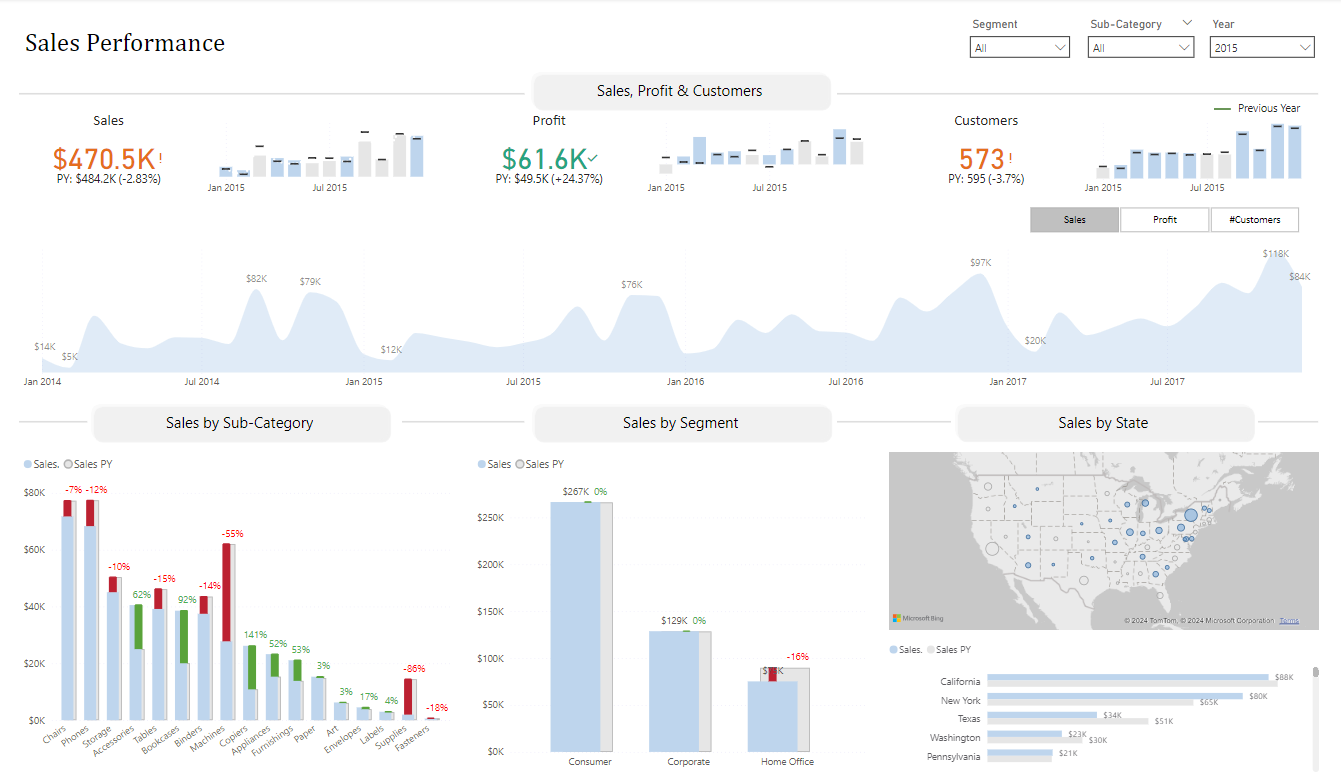

Layout of this report page (visuals, bound fields, positions):
{"tool":"powerbi","page":{"name":"Executive Summary.","canvas":[1700,1000],"ordinal":6},"visuals":[{"type":"slicer","fields":{"Values":["Calendar.Year"]},"box":[1518.9,20.2,152.4,69.3],"z":0},{"type":"group","id":"g1","title":"Group 4","box":[953.1,117.1,132.2,31.5],"z":0,"group":"g8"},{"type":"textbox","box":[982.7,117.1,101.9,31.5],"z":0,"group":"g1"},{"type":"group","id":"g2","title":"Group 4","box":[678.3,118.5,113.4,30.2],"z":0,"group":"g3"},{"type":"textbox","box":[678.3,118.5,113.3,30.2],"z":0,"group":"g2"},{"type":"textbox","box":[807.2,118.5,148.2,30.2],"z":0,"group":"g4"},{"type":"kpi","title":"Sales","fields":{"Indicator":["Superstore Dataset.Sales."],"Goal":["Superstore Dataset.Sales Previous Year"],"TrendLine":["Calendar.Year"]},"box":[24.4,142.5,235.8,115],"z":0,"group":"g6"},{"type":"group","id":"g3","title":"Group 5","box":[651.9,116,139.8,35.3],"z":1000,"group":"g8"},{"type":"image","box":[651.9,116,26.4,35.3],"z":1000,"group":"g3"},{"type":"shape","box":[953.1,126.1,19.3,14.4],"z":1000,"group":"g1"},{"type":"areaChart","fields":{"Y":["Superstore.Sales."],"Category":["Calendar.Date (bins)"]},"box":[29.2,303,1642.8,198],"z":1000},{"type":"group","id":"g4","title":"Group 6","box":[785.4,118.5,170,30.2],"z":2000,"group":"g8"},{"type":"kpi","title":"Profit","fields":{"TrendLine":["Calendar.Year"],"Indicator":["Superstore Dataset.Profit."],"Goal":["Superstore Dataset.Profit Previous Year"]},"box":[579.4,142.5,234.5,115],"z":2000,"group":"g5"},{"type":"slicer","fields":{"Values":["prmMeasureList.prmMeasureList"]},"box":[1277.3,256.5,388.1,45.2],"z":2000},{"type":"group","id":"g5","title":"Group 1","box":[579.4,142.5,533.2,115.1],"z":3000},{"type":"group","id":"g6","title":"Group 2","box":[24.4,142.5,535.4,114.6],"z":4000},{"type":"lineClusteredColumnComboChart","title":"Consumer","fields":{"Y":["Superstore Dataset.Sales."],"Y2":["Superstore Dataset.Sales Previous Year"],"Category":["Calendar.Date (bins)"]},"box":[260.2,142.5,299.6,115],"z":4000,"group":"g6"},{"type":"lineClusteredColumnComboChart","title":"Consumer","fields":{"Category":["Calendar.Date (bins)"],"Y":["Superstore.Profit."],"Y2":["Superstore.Profit PY"]},"box":[813.9,142.5,299.6,115],"z":5000,"group":"g5"},{"type":"group","id":"g7","title":"Group 3","box":[1130.3,142.5,535.4,114.6],"z":5000},{"type":"shape","box":[115.2,506.4,384.3,55],"z":6000},{"type":"shape","box":[670.4,506.4,384.6,55],"z":7000},{"type":"kpi","title":"Customers","fields":{"TrendLine":["Calendar.Year"],"Indicator":["Superstore.Customers"],"Goal":["Superstore.Customers PY"]},"box":[1130.3,142.5,234.5,115],"z":8000,"group":"g7"},{"type":"shape","box":[1202.9,506.4,384.1,54.5],"z":8000},{"type":"lineClusteredColumnComboChart","title":"Consumer","fields":{"Y":["Superstore.Customers"],"Y2":["Superstore.Customers PY"],"Category":["Calendar.Dates"]},"box":[1364.8,142.5,300.9,115],"z":9000,"group":"g7"},{"type":"map","title":"Sales","fields":{"Category":["Superstore.State"],"Size":["Superstore.Sales."]},"box":[1119.6,566.8,551.6,234.3],"z":9000},{"type":"shape","box":[664.6,60.7,384.6,55],"z":10000},{"type":"shape","box":[26.4,16.4,321.2,78.1],"z":11000},{"type":"shape","box":[25.5,86.6,636.7,12],"z":12000},{"type":"shape","box":[1054.2,86.9,605.8,11.3],"z":13000},{"type":"shape","box":[1059.3,527.7,143.5,12],"z":14000},{"type":"shape","box":[511.7,527.7,154.2,12],"z":15000},{"type":"shape","box":[1589.7,527.7,75.8,12],"z":16000},{"type":"shape","box":[29.2,527.7,86.4,12],"z":17000},{"type":"clusteredColumnChart","fields":{"Category":["Superstore.Sub-Category"],"Y":["Superstore.Sales.","Superstore.Sales PY","Superstore.Max value"]},"box":[29,566.8,550.4,413.1],"z":18000},{"type":"clusteredColumnChart","fields":{"Y":["Superstore.Sales.","Superstore.Sales PY","Superstore.Max value"],"Category":["Superstore.Segment"]},"box":[600.8,566.8,500,413.1],"z":19000},{"type":"slicer","fields":{"Values":["Superstore.Sub-Category"]},"box":[1365.2,20.2,153.7,69.3],"z":20000},{"type":"slicer","fields":{"Values":["Superstore.Segment"]},"box":[1216.6,20.2,146.1,69.3],"z":21000},{"type":"clusteredBarChart","title":"Sales","fields":{"Category":["Superstore.State"],"Y":["Superstore.Sales.","Superstore.Sales PY"]},"box":[1119.6,801,551.6,178.8],"z":22000},{"type":"shape","box":[25.2,273.3,1251.9,12.6],"z":23000},{"type":"image","box":[785.4,118.5,21.8,30.2],"z":23004,"group":"g4"},{"type":"textbox","box":[29,971,343.8,29],"z":24000},{"type":"group","id":"g8","title":"Group 7","box":[651.9,116,433.6,36.6],"z":25000}]}

Visuals, with their boxes in screenshot pixels (x1, y1, x2, y2), scaled from the page's 1700x1000 canvas onto the 1341x784 screenshot:
slicer - Calendar.Year: rect(1198, 16, 1318, 70)
"Group 4" group: rect(752, 92, 856, 117)
textbox: rect(775, 92, 856, 117)
"Group 4" group: rect(535, 93, 625, 117)
textbox: rect(535, 93, 624, 117)
textbox: rect(637, 93, 754, 117)
"Sales" kpi: rect(19, 112, 205, 202)
"Group 5" group: rect(514, 91, 625, 119)
image: rect(514, 91, 535, 119)
shape: rect(752, 99, 767, 110)
areaChart - Superstore.Sales. x Calendar.Date (bins): rect(23, 238, 1319, 393)
"Group 6" group: rect(620, 93, 754, 117)
"Profit" kpi: rect(457, 112, 642, 202)
slicer - prmMeasureList.prmMeasureList: rect(1008, 201, 1314, 237)
"Group 1" group: rect(457, 112, 878, 202)
"Group 2" group: rect(19, 112, 442, 202)
"Consumer" lineClusteredColumnComboChart: rect(205, 112, 442, 202)
"Consumer" lineClusteredColumnComboChart: rect(642, 112, 878, 202)
"Group 3" group: rect(892, 112, 1314, 202)
shape: rect(91, 397, 394, 440)
shape: rect(529, 397, 832, 440)
"Customers" kpi: rect(892, 112, 1077, 202)
shape: rect(949, 397, 1252, 440)
"Consumer" lineClusteredColumnComboChart: rect(1077, 112, 1314, 202)
"Sales" map: rect(883, 444, 1318, 628)
shape: rect(524, 48, 828, 91)
shape: rect(21, 13, 274, 74)
shape: rect(20, 68, 522, 77)
shape: rect(832, 68, 1309, 77)
shape: rect(836, 414, 949, 423)
shape: rect(404, 414, 525, 423)
shape: rect(1254, 414, 1314, 423)
shape: rect(23, 414, 91, 423)
clusteredColumnChart - Superstore.Sub-Category x Superstore.Sales.: rect(23, 444, 457, 768)
clusteredColumnChart - Superstore.Sales. x Superstore.Sales PY: rect(474, 444, 868, 768)
slicer - Superstore.Sub-Category: rect(1077, 16, 1198, 70)
slicer - Superstore.Segment: rect(960, 16, 1075, 70)
"Sales" clusteredBarChart: rect(883, 628, 1318, 768)
shape: rect(20, 214, 1007, 224)
image: rect(620, 93, 637, 117)
textbox: rect(23, 761, 294, 783)
"Group 7" group: rect(514, 91, 856, 120)
